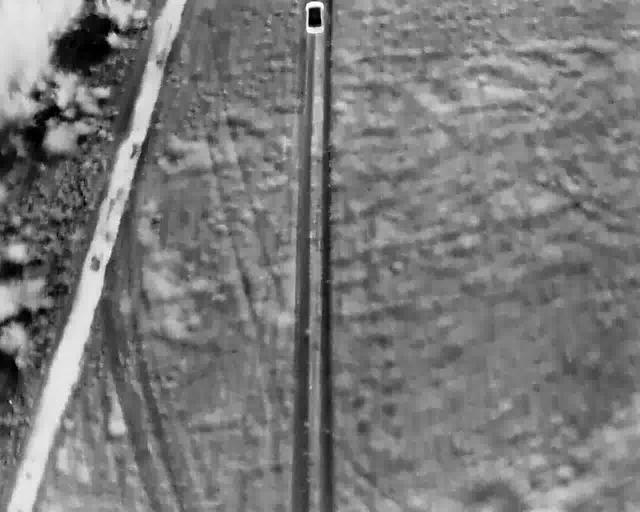car: (305, 1, 325, 34)
